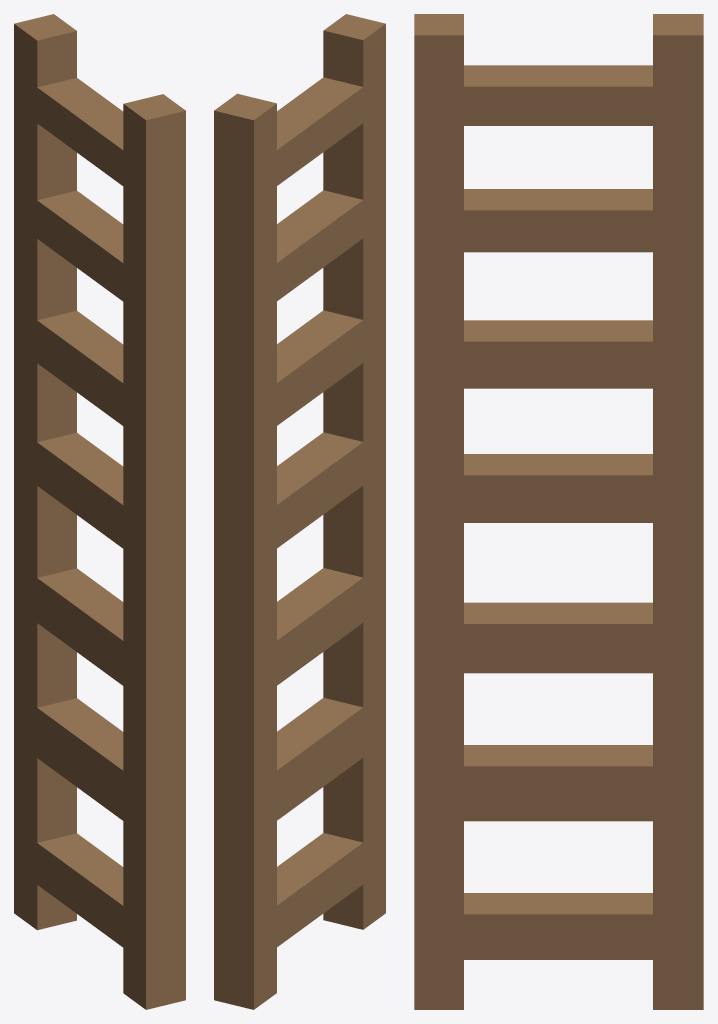
The model's file is Ladder01.fbx.
3 renders of one model, left to right at view 1: azimuth 30°, elevation 25°; view 2: azimuth 150°, elevation 25°; view 3: azimuth 270°, elevation 25°, orthographic. The views are drawn at different scales.
Visible parts, largest first — view 1: Ladder01; view 2: Ladder01; view 3: Ladder01.
Boxes of the visible parts, x1=… form: Ladder01: x1=14, y1=14, x2=185, y2=1009; Ladder01: x1=214, y1=14, x2=385, y2=1009; Ladder01: x1=414, y1=14, x2=703, y2=1009.
Bounding box in the file's own units: 20.83 × 445 × 120.
